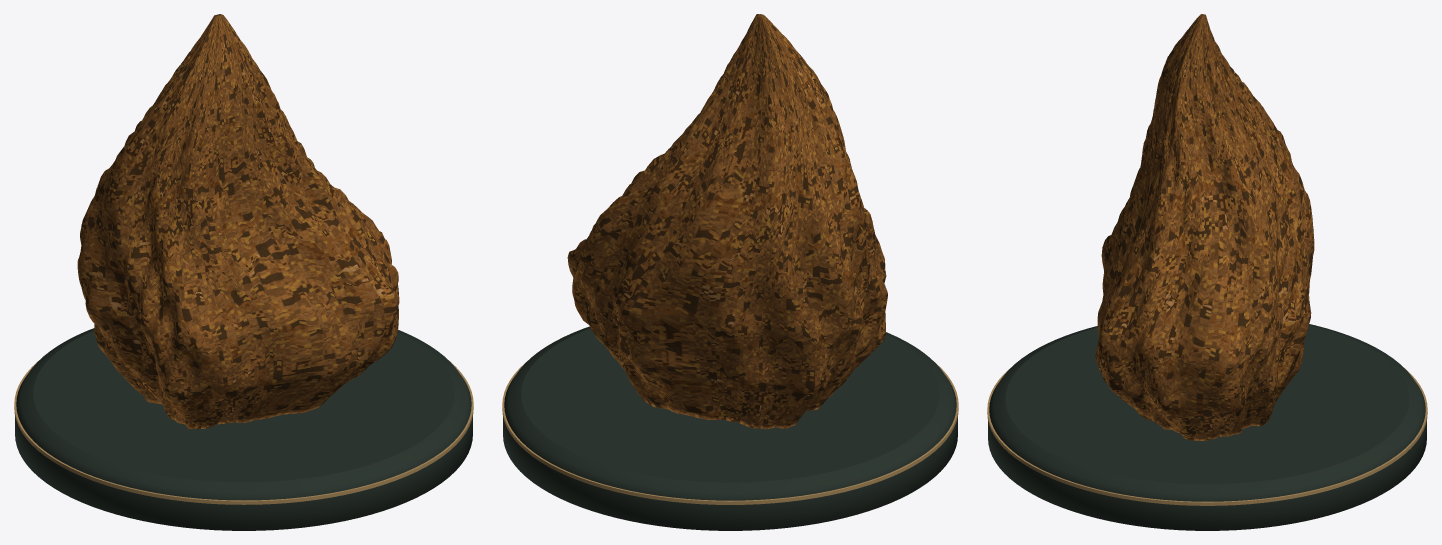
File: lingstone-concept-01-v191-0eeb13b4ed76.glb
3 renders of one model, left to right at view 1: azimuth 30°, elevation 25°; view 2: azimuth 150°, elevation 25°; view 3: azimuth 270°, elevation 25°, orthographic. The views are drawn at different scales.
Visible parts, largest first — view 1: XY-CONCEPT-001 concept stone, Centered beveled display plinth, Champagne gold edge; view 2: XY-CONCEPT-001 concept stone, Centered beveled display plinth, Champagne gold edge; view 3: XY-CONCEPT-001 concept stone, Centered beveled display plinth, Champagne gold edge.
Boxes of the visible parts, x1=… form: XY-CONCEPT-001 concept stone: x1=77, y1=14, x2=399, y2=428; Centered beveled display plinth: x1=15, y1=328, x2=472, y2=530; Champagne gold edge: x1=14, y1=361, x2=473, y2=504; XY-CONCEPT-001 concept stone: x1=567, y1=14, x2=887, y2=429; Centered beveled display plinth: x1=503, y1=326, x2=957, y2=530; Champagne gold edge: x1=502, y1=362, x2=958, y2=504; XY-CONCEPT-001 concept stone: x1=1095, y1=14, x2=1314, y2=440; Centered beveled display plinth: x1=988, y1=324, x2=1426, y2=530; Champagne gold edge: x1=987, y1=369, x2=1427, y2=505.
Size of the model in its own units: 1.78 by 1.85 by 1.78.
Materials: 3 (1 with a texture image).
